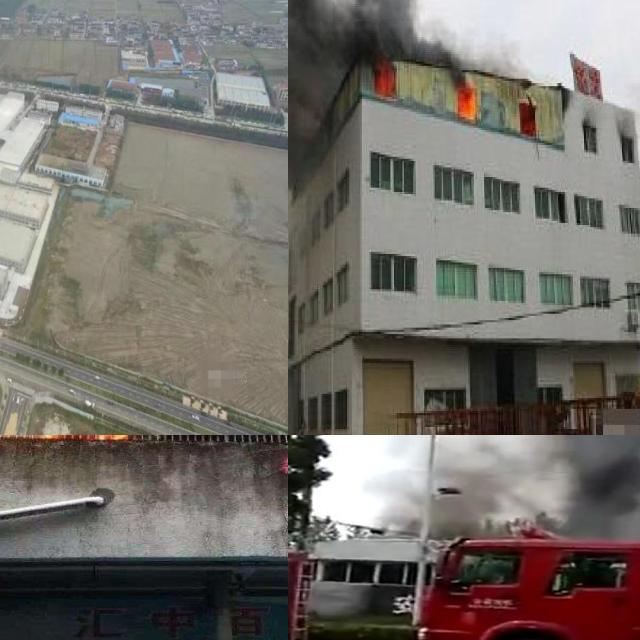fire: (374, 59, 395, 96), (456, 80, 476, 116)
smoke: (423, 435, 640, 524), (339, 0, 474, 74)
